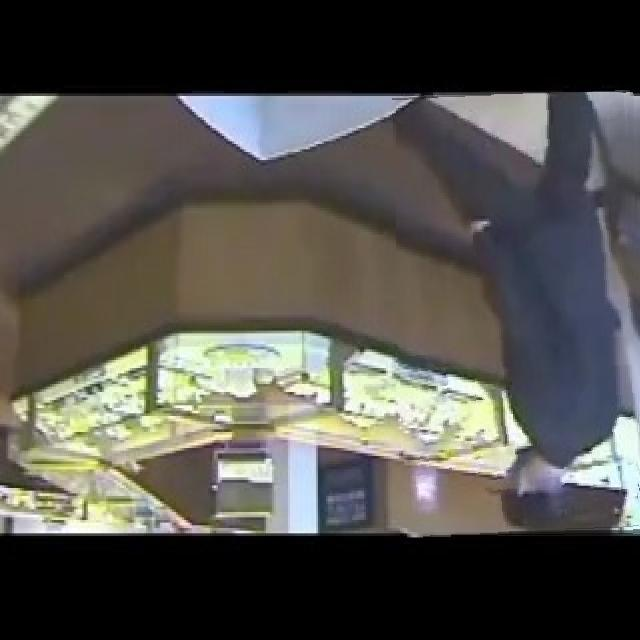Normal: (396, 92, 640, 537)
